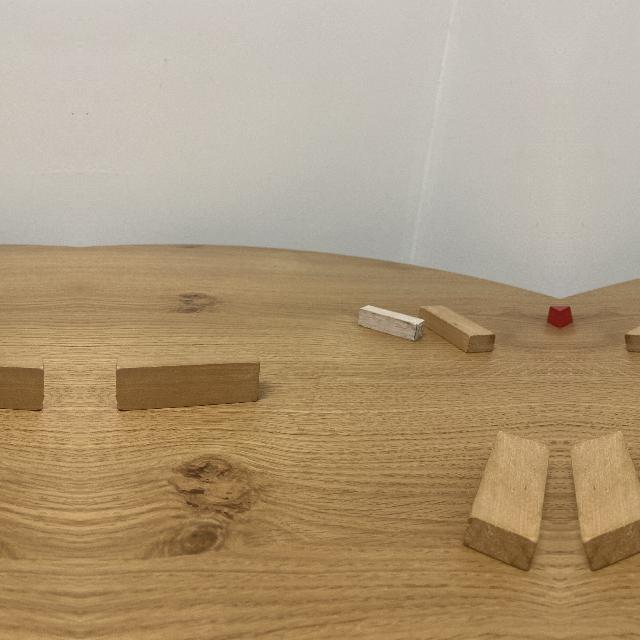block: (358, 306, 424, 342)
jenga: (463, 431, 549, 571), (115, 337, 260, 411), (571, 431, 640, 571), (418, 305, 496, 357), (0, 338, 45, 411)
red block: (548, 303, 560, 331), (560, 303, 572, 331)
